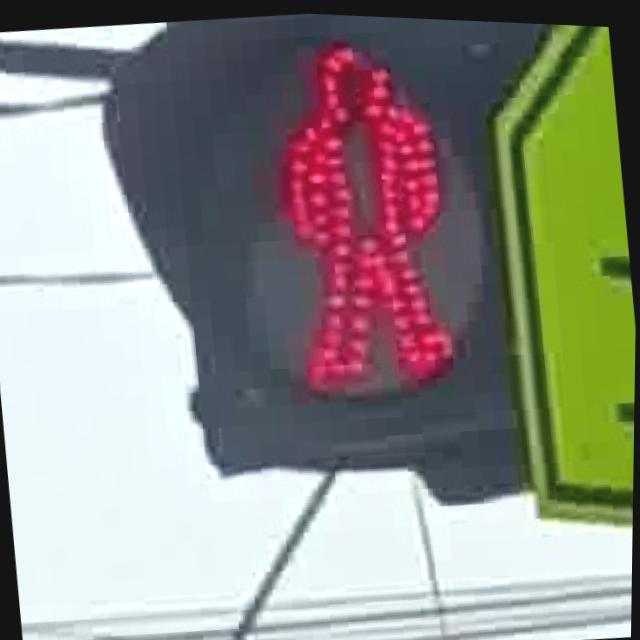red_light: (236, 11, 487, 404)
